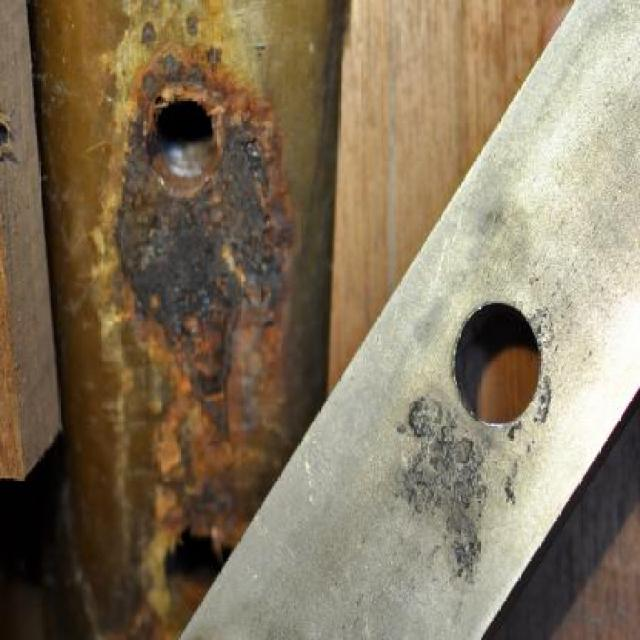corrosion: (40, 0, 329, 640)
